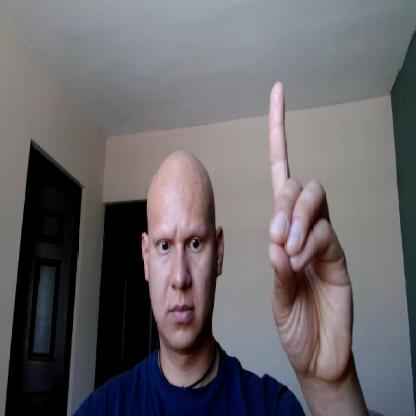D: (268, 79, 356, 378)
